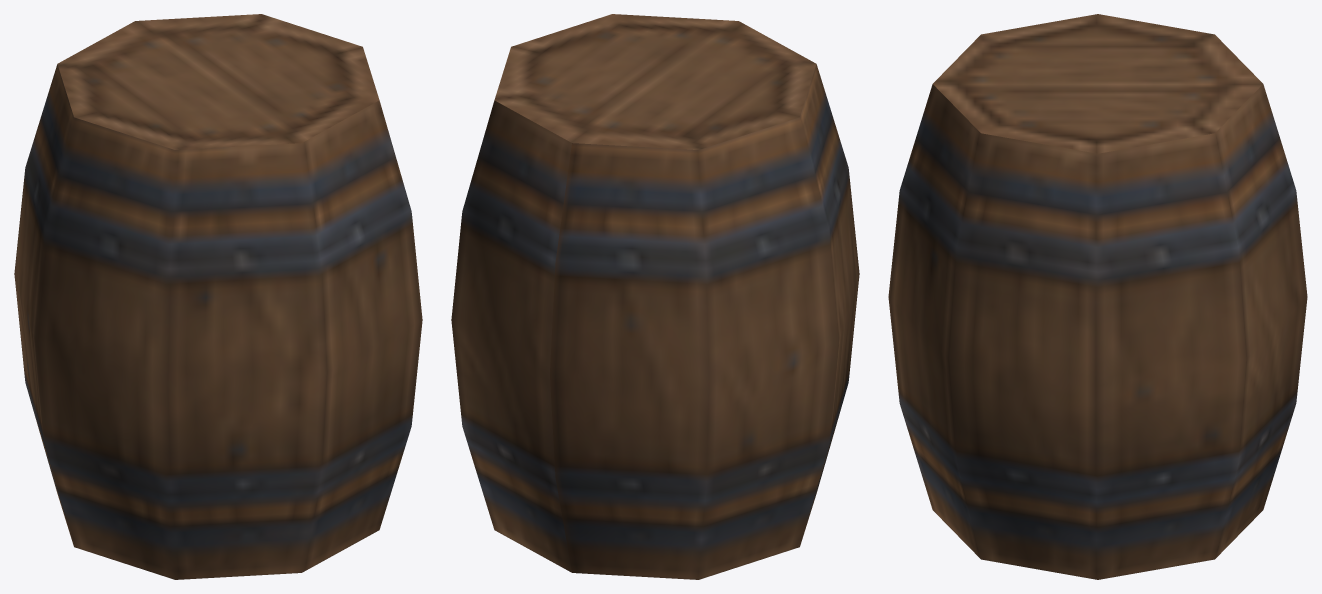
The model's file is oak_2.FBX.
3 views of the same model, side by side, from view 1: azimuth 30°, elevation 25°; view 2: azimuth 150°, elevation 25°; view 3: azimuth 270°, elevation 25° (orthographic).
Visible parts, largest first — view 1: Cylinder001; view 2: Cylinder001; view 3: Cylinder001.
Boxes of the visible parts, x1,y1,x2,y2 form: Cylinder001: (14, 14, 422, 579); Cylinder001: (451, 14, 859, 579); Cylinder001: (888, 14, 1307, 579).
Size of the model in its own units: 22.82 by 25.61 by 22.82.
